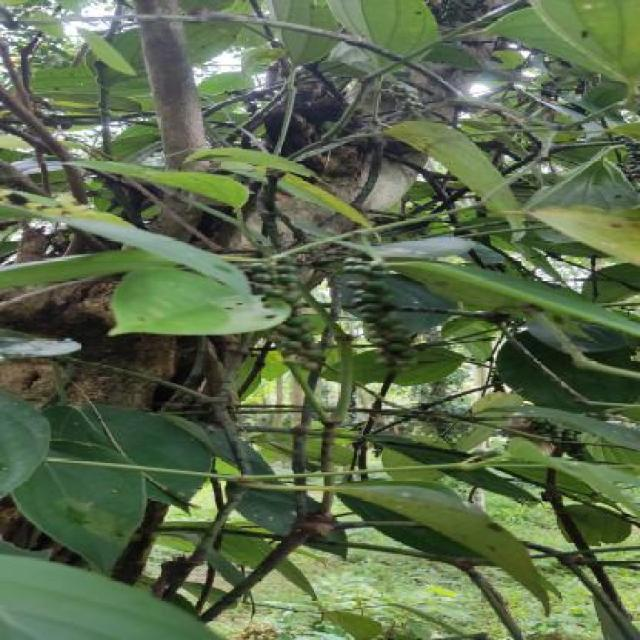UNRIPE: (255, 255, 328, 368), (349, 263, 417, 366), (606, 137, 639, 186), (526, 417, 582, 443), (394, 85, 423, 112)
